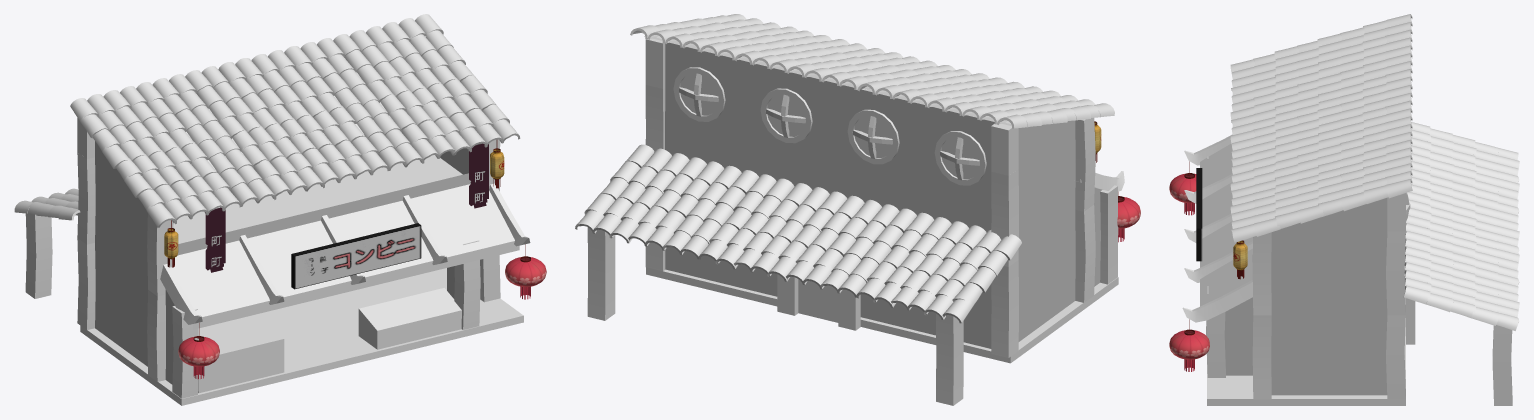
File: SM_Store_04.fbx
The picture shows the model from 3 angles, left to right: view 1: azimuth 30°, elevation 25°; view 2: azimuth 150°, elevation 25°; view 3: azimuth 270°, elevation 25°; orthographic projection. The views are drawn at different scales.
Parts seen in each view (by area): view 1: SM_Store_04; view 2: SM_Store_04; view 3: SM_Store_04.
Part boxes in pixels (box(x1,y1,x2,y2)): SM_Store_04: box(14, 14, 546, 405); SM_Store_04: box(575, 14, 1140, 405); SM_Store_04: box(1169, 14, 1519, 405).
Size of the model in its own units: 895 by 543 by 756.
